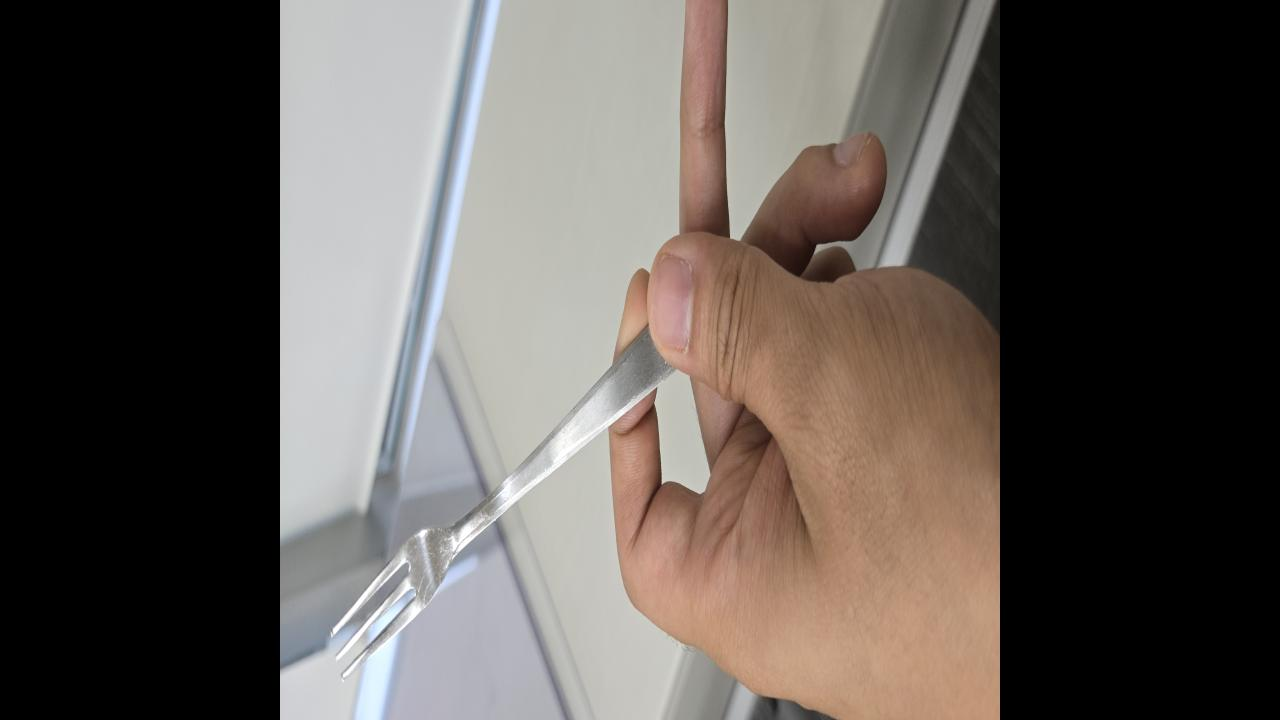fork: (330, 322, 676, 678)
